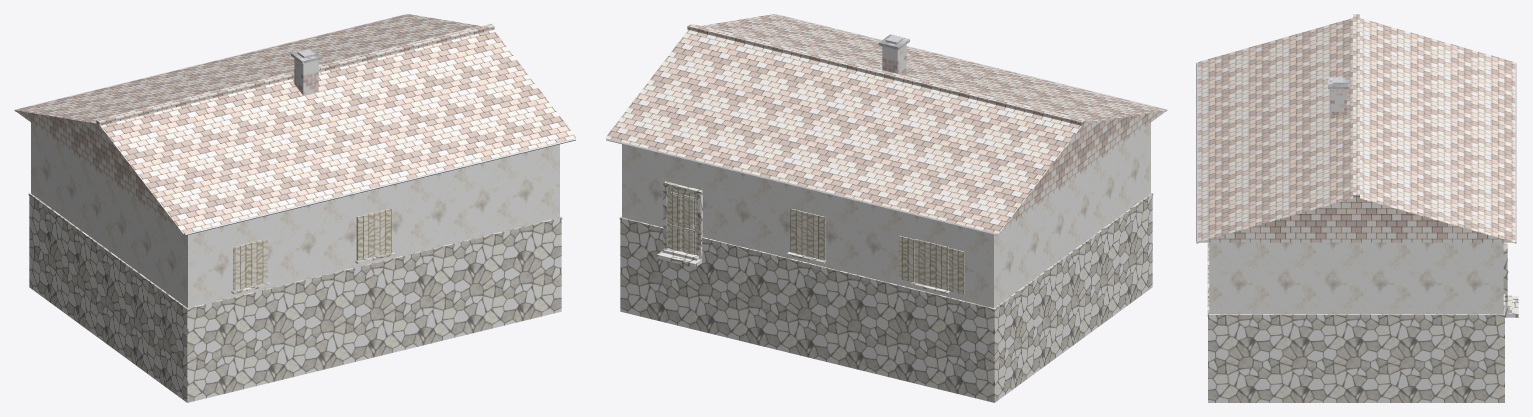
3 renders of one model, left to right at view 1: azimuth 30°, elevation 25°; view 2: azimuth 150°, elevation 25°; view 3: azimuth 270°, elevation 25°, orthographic. The views are drawn at different scales.
Visible parts, largest first — view 1: b1096729685; view 2: b1096729685; view 3: b1096729685.
Boxes of the visible parts, box(x1,y1,x2,y2) form: b1096729685: box(14, 14, 576, 402); b1096729685: box(605, 14, 1167, 402); b1096729685: box(1196, 14, 1518, 402).
Bounding box in the file's own units: 12.72 × 7.79 × 9.58.
Materials: 18 (18 with a texture image).
